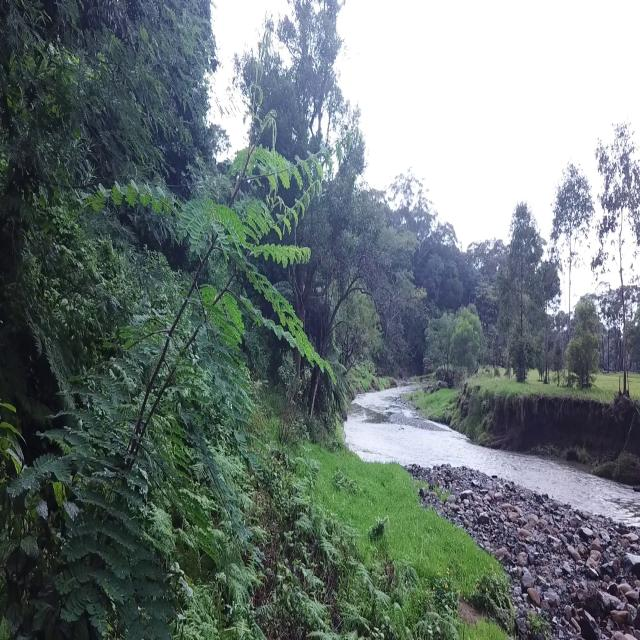Mysore-Thorn-Weed: (7, 105, 336, 640)
